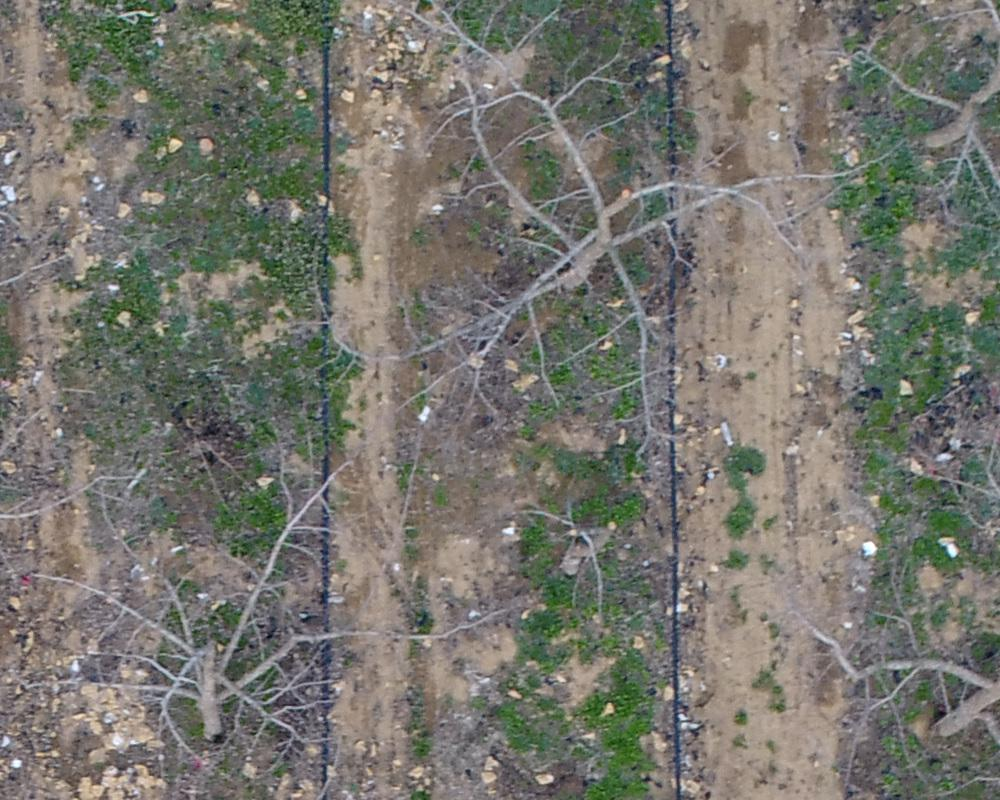apple: (325, 10, 881, 468), (33, 439, 510, 778), (852, 10, 990, 289)
